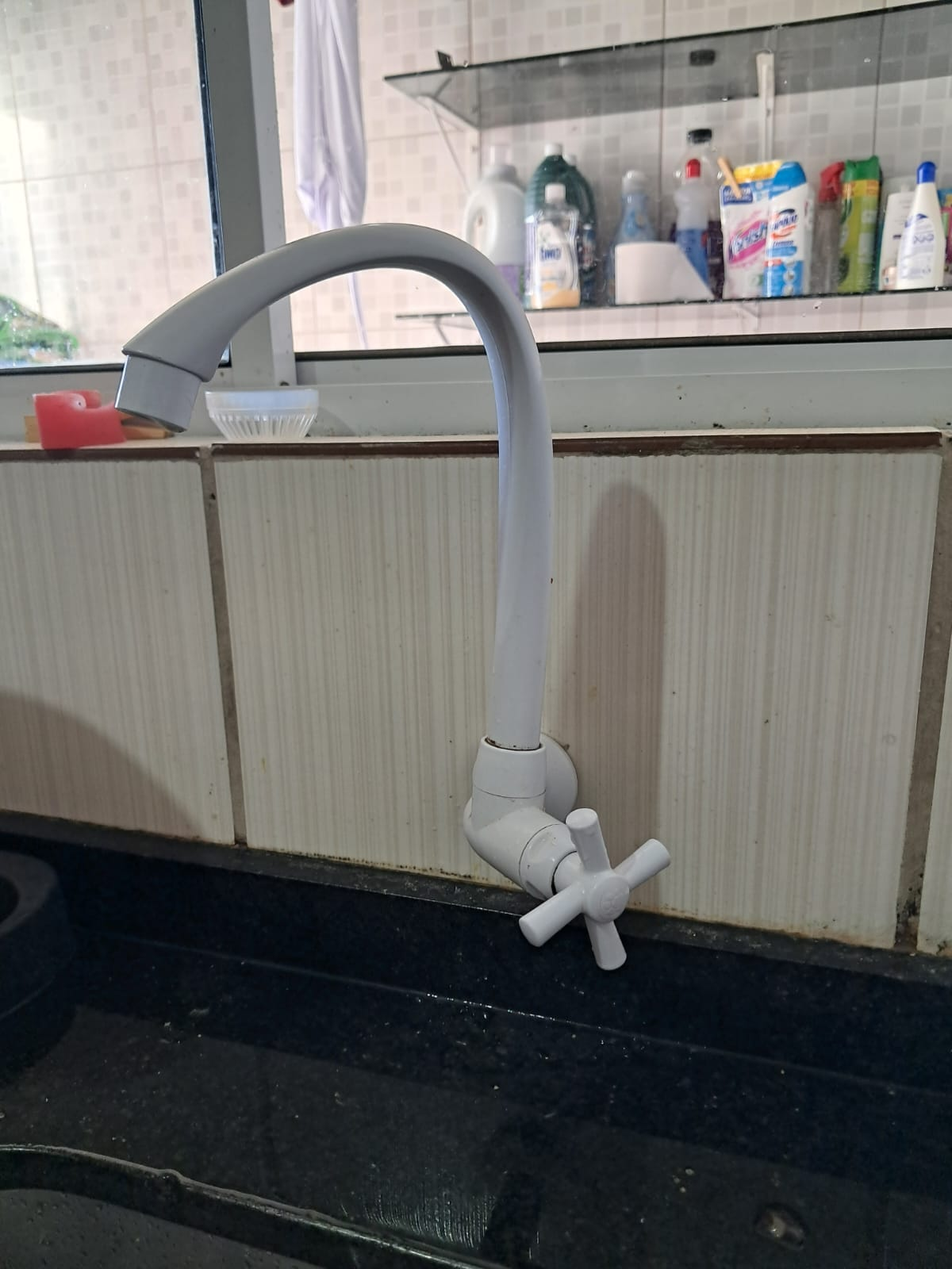torneira_fechada: (99, 209, 685, 979)
